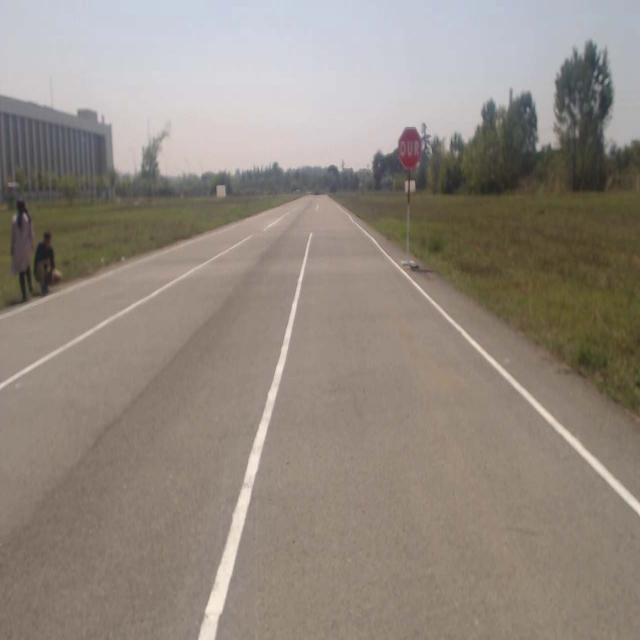dur: (398, 128, 422, 171)
